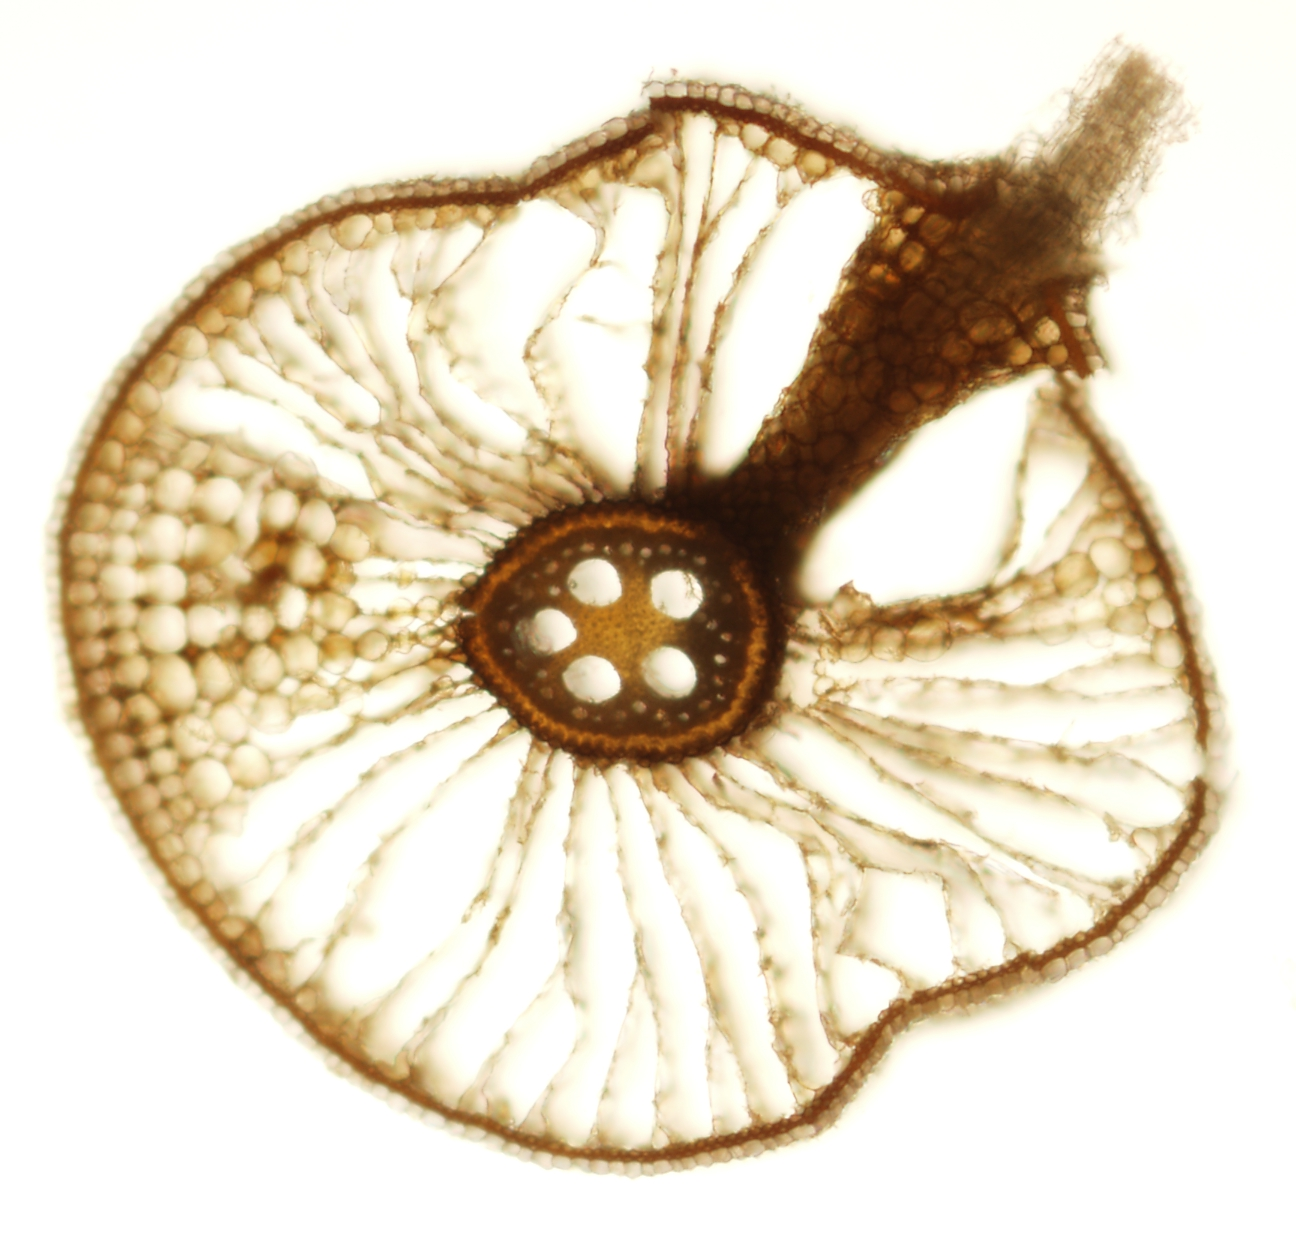lm: (640, 646, 697, 699), (561, 655, 621, 702), (566, 558, 623, 606), (650, 571, 704, 619), (526, 608, 577, 655)
